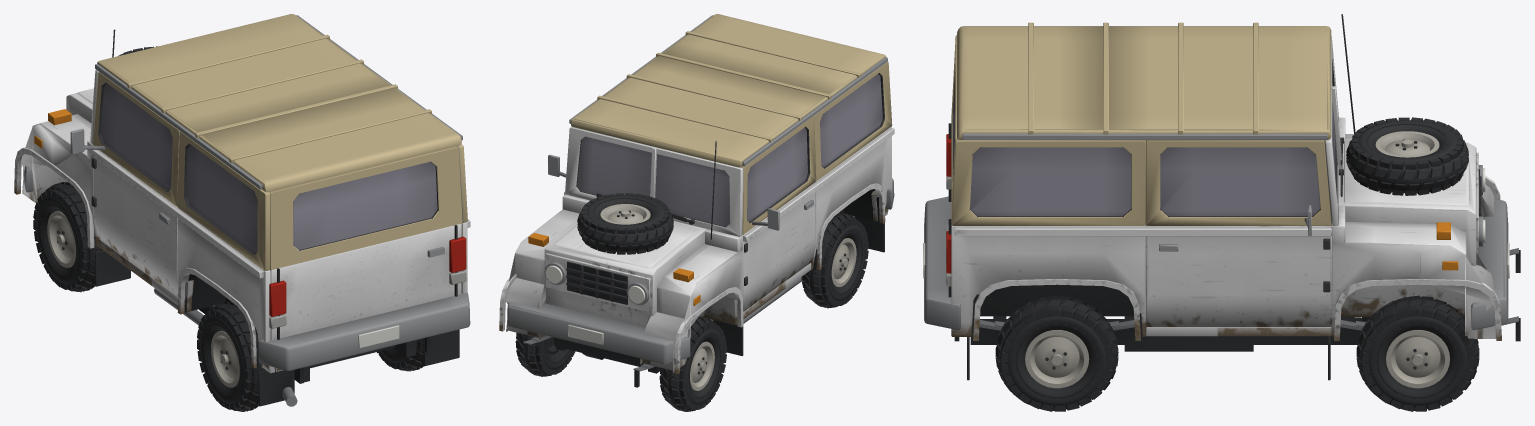
The model's file is eightyeight.glb.
The picture shows the model from 3 angles, left to right: view 1: azimuth 30°, elevation 25°; view 2: azimuth 150°, elevation 25°; view 3: azimuth 270°, elevation 25°; orthographic projection. The views are drawn at different scales.
Parts seen in each view (by area): view 1: body, door_FL, wheel_FL, wheel_RL, wheel_RR; view 2: body, door_FL, wheel_RL, wheel_FL, wheel_FR; view 3: body, door_FR, wheel_RR, wheel_FR.
Part boxes in pixels (x1=…): body: x1=14, y1=14, x2=470, y2=406; door_FL: x1=70, y1=72, x2=179, y2=296; wheel_FL: x1=33, y1=182, x2=102, y2=292; wheel_RL: x1=197, y1=301, x2=265, y2=411; wheel_RR: x1=377, y1=338, x2=423, y2=371; body: x1=499, y1=14, x2=894, y2=387; door_FL: x1=742, y1=116, x2=815, y2=311; wheel_RL: x1=801, y1=213, x2=868, y2=308; wheel_FL: x1=659, y1=316, x2=726, y2=411; wheel_FR: x1=515, y1=332, x2=575, y2=376; body: x1=923, y1=14, x2=1520, y2=380; door_FR: x1=1146, y1=140, x2=1331, y2=326; wheel_RR: x1=995, y1=295, x2=1118, y2=411; wheel_FR: x1=1356, y1=295, x2=1479, y2=411.
Size of the model in its own units: 2.1 by 2.12 by 3.7.
Materials: 17 (1 with a texture image).
